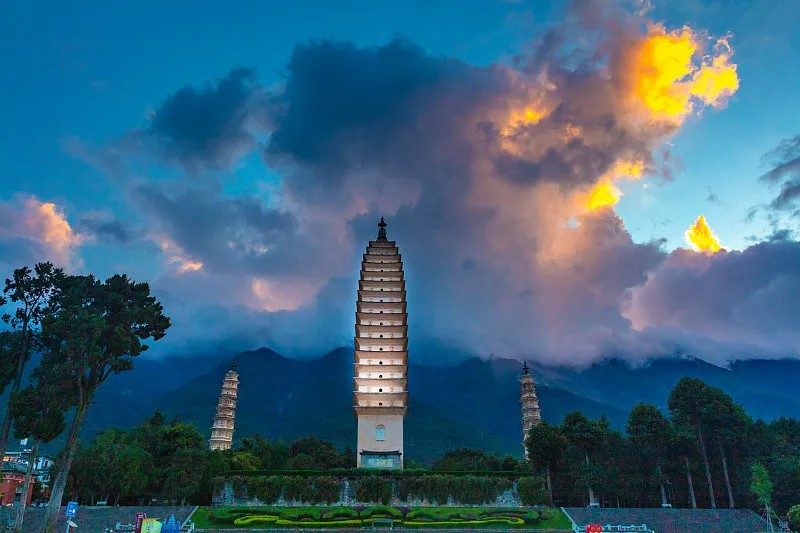ThreePagoda: (352, 215, 409, 469)
